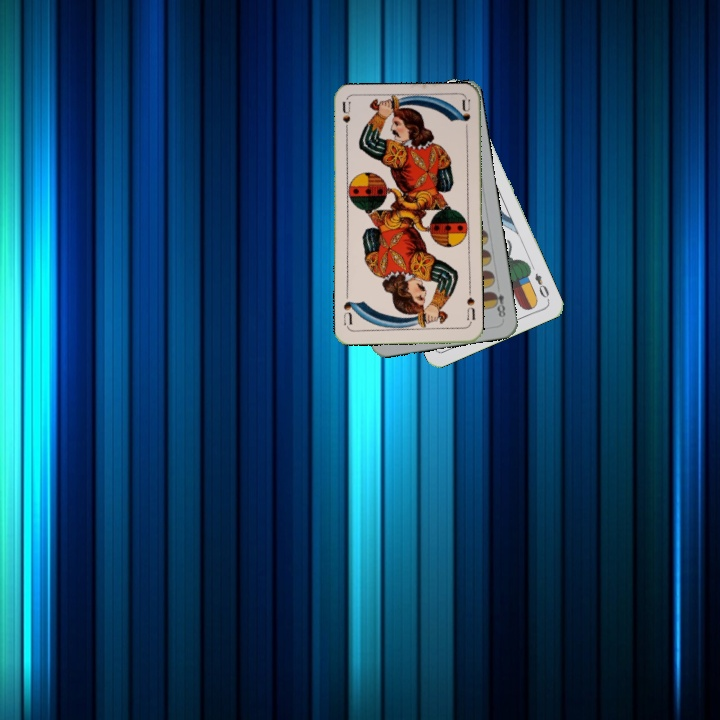E8: (488, 288, 508, 320)
EO: (531, 269, 552, 303)
SU: (338, 99, 353, 140), (463, 287, 478, 327)
